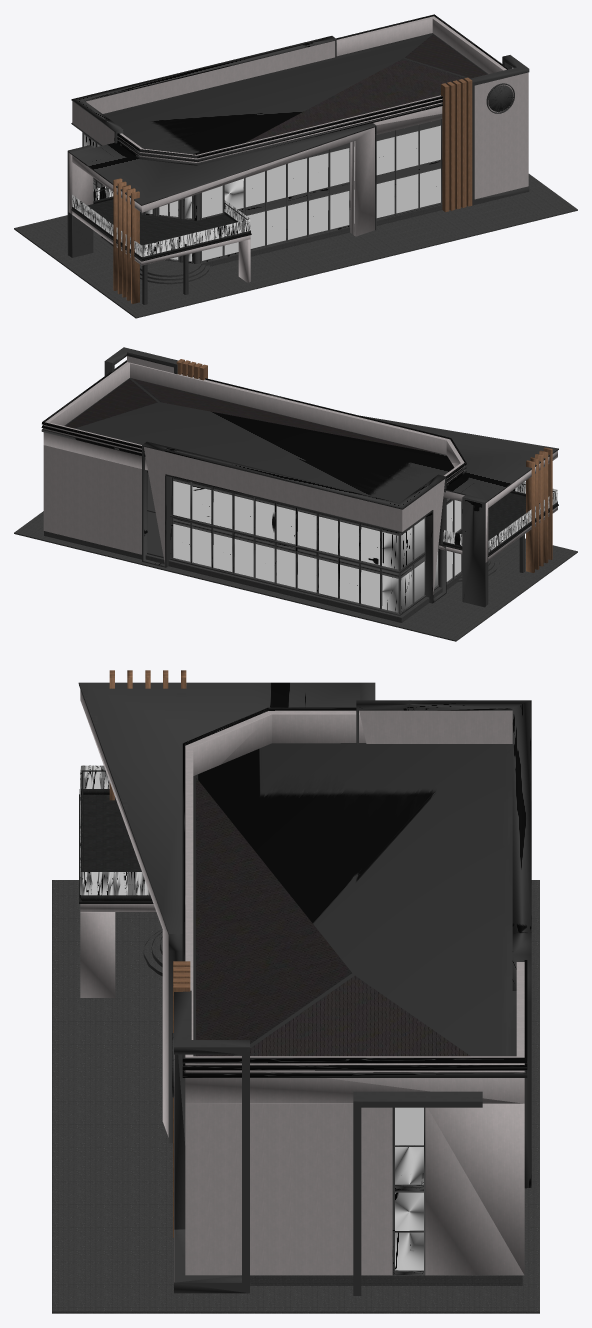
The model's file is modern.glb.
3 renders of one model, top to bottom at view 1: azimuth 30°, elevation 25°; view 2: azimuth 150°, elevation 25°; view 3: azimuth 270°, elevation 25°, orthographic. The views are drawn at different scales.
Visible parts, largest first — view 1: walls.004, base, roof, glass, walls, wood, roof.001, window, walls.002, floor, glassfence, roof.002 (+5 smaller); view 2: walls.004, glass, roof, walls, base, window, wood, roof.001, walls.002, slab, window.001, roof.002 (+3 smaller); view 3: walls.004, roof, base, walls, roof.001, roof.002, walls.002, walls.001, floor, glass, facadeElements, glassfence (+2 smaller).
Part boxes in pixels (bbox=[...]): walls.004: bbox=[68, 16, 528, 282]; base: bbox=[14, 174, 577, 318]; roof: bbox=[103, 33, 488, 154]; glass: bbox=[84, 125, 440, 261]; walls: bbox=[67, 36, 376, 255]; wood: bbox=[113, 77, 472, 303]; roof.001: bbox=[245, 58, 464, 142]; window: bbox=[82, 119, 442, 263]; walls.002: bbox=[114, 14, 508, 165]; floor: bbox=[71, 188, 251, 261]; glassfence: bbox=[72, 186, 250, 256]; roof.002: bbox=[405, 34, 487, 78]; walls.004: bbox=[43, 356, 557, 594]; glass: bbox=[173, 481, 461, 612]; roof: bbox=[64, 378, 454, 502]; walls: bbox=[142, 415, 558, 607]; base: bbox=[14, 511, 577, 641]; window: bbox=[170, 477, 462, 613]; wood: bbox=[176, 359, 552, 572]; roof.001: bbox=[132, 378, 441, 454]; walls.002: bbox=[41, 360, 466, 486]; slab: bbox=[147, 471, 438, 615]; window.001: bbox=[173, 477, 452, 577]; roof.002: bbox=[65, 379, 157, 428]; walls.004: bbox=[80, 690, 524, 1281]; roof: bbox=[193, 743, 516, 1056]; base: bbox=[52, 880, 539, 1313]; walls: bbox=[78, 682, 531, 1188]; roof.001: bbox=[196, 778, 351, 1056]; roof.002: bbox=[239, 976, 470, 1056]; walls.002: bbox=[182, 707, 527, 1077]; walls.001: bbox=[174, 990, 249, 1293]; floor: bbox=[79, 770, 153, 903]; glass: bbox=[395, 1107, 423, 1270]; facadeElements: bbox=[353, 1091, 482, 1295]; glassfence: bbox=[80, 765, 149, 895].
Size of the model in its own units: 22 by 6.01 by 10.51.
20 materials, 19 textured.
